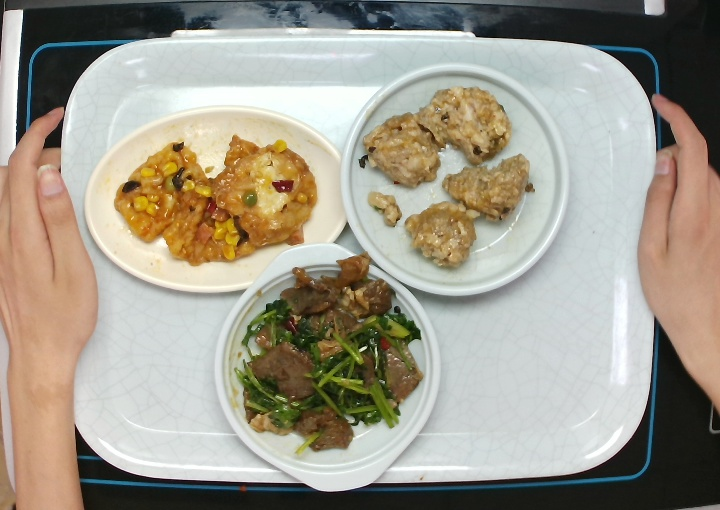JYsf-Shuang_Er_Pan: (212, 240, 443, 493)
JYsf-Tuo_Yuan_Wan: (82, 104, 350, 295)
JYsf-Xiao_Yuan_Pan: (338, 60, 571, 299)
